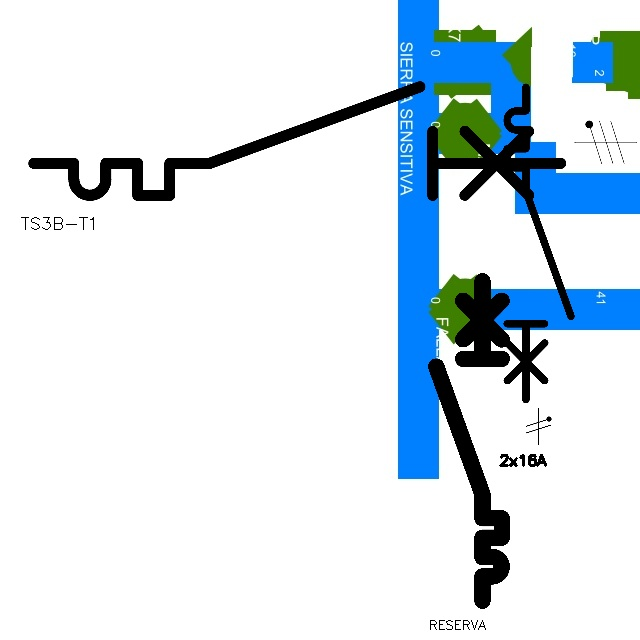interruptor_termomagnetico: (20, 73, 574, 209), (428, 273, 510, 609), (499, 79, 579, 408)
